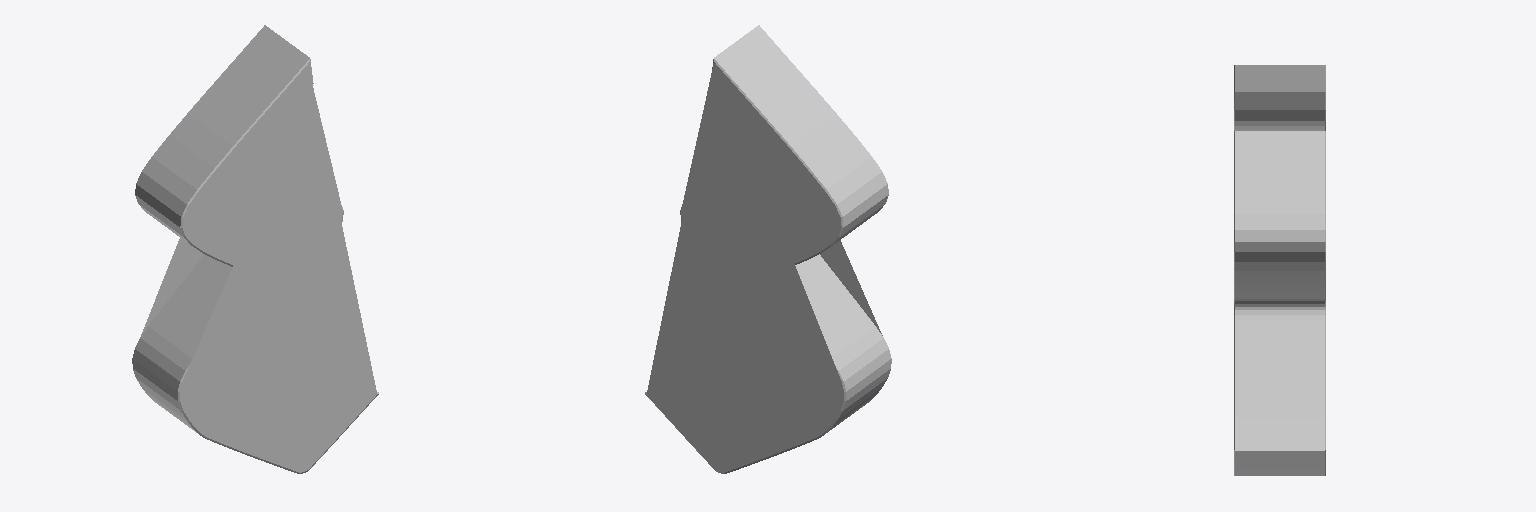
3 views of the same model, side by side, from view 1: azimuth 30°, elevation 25°; view 2: azimuth 150°, elevation 25°; view 3: azimuth 270°, elevation 25° (orthographic).
Visible parts, largest first — view 1: 4_Mesh.005; view 2: 4_Mesh.005; view 3: 4_Mesh.005.
Part boxes in pixels (bbox=[...]): 4_Mesh.005: bbox=[132, 25, 378, 473]; 4_Mesh.005: bbox=[645, 25, 891, 473]; 4_Mesh.005: bbox=[1234, 65, 1325, 475].
Size of the model in its own units: 1.81 by 3.53 by 0.7176.